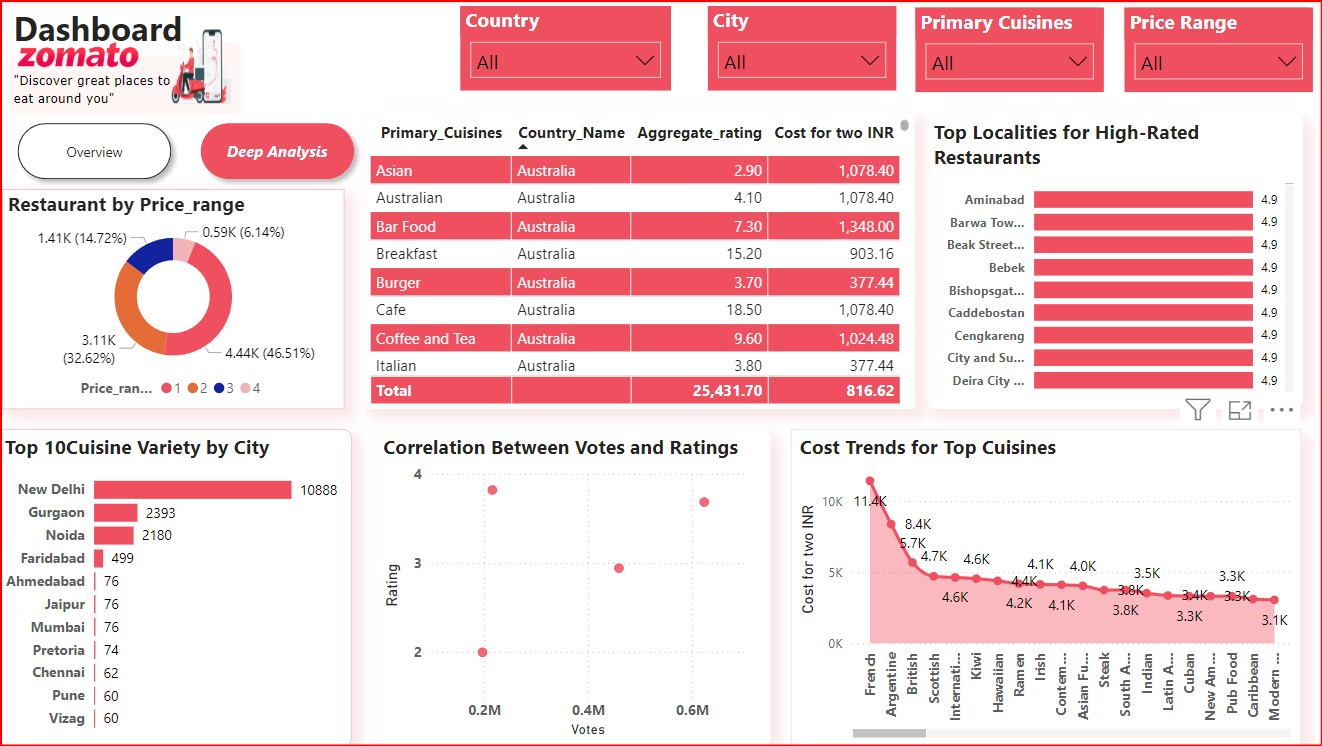

Layout of this report page (visuals, bound fields, positions):
{"tool":"powerbi","page":{"name":"Deep Analysis","canvas":[1280,720],"ordinal":1},"visuals":[{"type":"shape","box":[12.6,39.3,224.6,70.7],"z":0},{"type":"textbox","box":[12.6,0,185.4,53.4],"z":1000},{"type":"slicer","title":"City","fields":{"Values":["zomato.City"]},"box":[685.7,5.7,181.4,81.4],"z":2000},{"type":"image","box":[158.7,14.1,78.5,95.8],"z":2000,"group":"g1"},{"type":"slicer","title":"Country","fields":{"Values":["zomato.Country_Name"]},"box":[447.1,5.7,202.9,81.4],"z":3000},{"type":"slicer","title":"Primary Cuisines","fields":{"Values":["zomato.Primary_Cuisines"]},"box":[885.7,7.1,181.4,81.4],"z":4000},{"type":"image","box":[15.7,14.1,128.8,75.4],"z":4000,"group":"g1"},{"type":"slicer","title":"Price Range","fields":{"Values":["zomato.Price_range"]},"box":[1087.1,7.1,181.4,81.4],"z":5000},{"type":"textbox","box":[12.6,61.2,164.9,48.7],"z":6000,"group":"g1"},{"type":"textbox","box":[47.1,136.7,100.5,45.5],"z":6000},{"type":"group","id":"g1","title":"Group 1","box":[12.6,14.1,224.6,95.8],"z":7000},{"type":"pageNavigator","box":[12.6,110,342.5,72.3],"z":8000},{"type":"scatterChart","title":"Correlation Between Votes and Ratings","fields":{"X":["Sum(zomato.Votes)"],"Y":["Avg(zomato.Aggregate_rating)"],"Category":["zomato.Price_range"]},"box":[364.4,413.1,381.7,306.3],"z":9000},{"type":"barChart","title":"Top 10Cuisine Variety by City","fields":{"Category":["zomato.City"],"Y":["Sum(zomato.Count of Cuisines offered by Resturants)"]},"box":[0,413.1,342.5,306.3],"z":10000},{"type":"barChart","title":"Top Localities for High-Rated Restaurants","fields":{"Category":["zomato.Locality"],"Y":["Avg(zomato.Aggregate_rating)"]},"box":[893.8,110,364.4,284.3],"z":10001},{"type":"lineChart","title":"Cost Trends for Top Cuisines","fields":{"Category":["zomato.Primary_Cuisines"],"Y":["Avg(zomato.Average Cost for two INR)"]},"box":[765,413.1,491.7,306.3],"z":10002},{"type":"tableEx","title":"Rating Distribution by Price Range","fields":{"Values":["zomato.Primary_Cuisines","zomato.Country_Name","Sum(zomato.Aggregate_rating)","Avg(zomato.Average Cost for two INR)"]},"box":[355,110,529.4,284.3],"z":10003},{"type":"donutChart","title":"Restaurant by Price_range","fields":{"Category":["zomato.Price_range"],"Y":["CountNonNull(zomato.Restaurant_Name)"]},"box":[6.3,182.2,329.9,212.1],"z":10004}]}

Visuals, with their boxes in screenshot pixels (x1, y1, x2, y2), scaled from the page's 1280x720 canvas onto the 1322x746 screenshot:
shape: l=13, t=41, r=245, b=114
textbox: l=13, t=0, r=204, b=55
"City" slicer: l=708, t=6, r=896, b=90
image: l=164, t=15, r=245, b=114
"Country" slicer: l=462, t=6, r=671, b=90
"Primary Cuisines" slicer: l=915, t=7, r=1102, b=92
image: l=16, t=15, r=149, b=93
"Price Range" slicer: l=1123, t=7, r=1310, b=92
textbox: l=13, t=63, r=183, b=114
textbox: l=49, t=142, r=152, b=189
"Group 1" group: l=13, t=15, r=245, b=114
pageNavigator: l=13, t=114, r=367, b=189
"Correlation Between Votes and Ratings" scatterChart: l=376, t=428, r=771, b=745
"Top 10Cuisine Variety by City" barChart: l=0, t=428, r=354, b=745
"Top Localities for High-Rated Restaurants" barChart: l=923, t=114, r=1299, b=409
"Cost Trends for Top Cuisines" lineChart: l=790, t=428, r=1298, b=745
"Rating Distribution by Price Range" tableEx: l=367, t=114, r=913, b=409
"Restaurant by Price_range" donutChart: l=7, t=189, r=347, b=409
